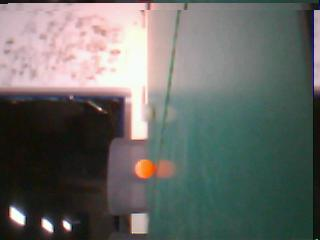oball: (133, 159, 154, 179)
